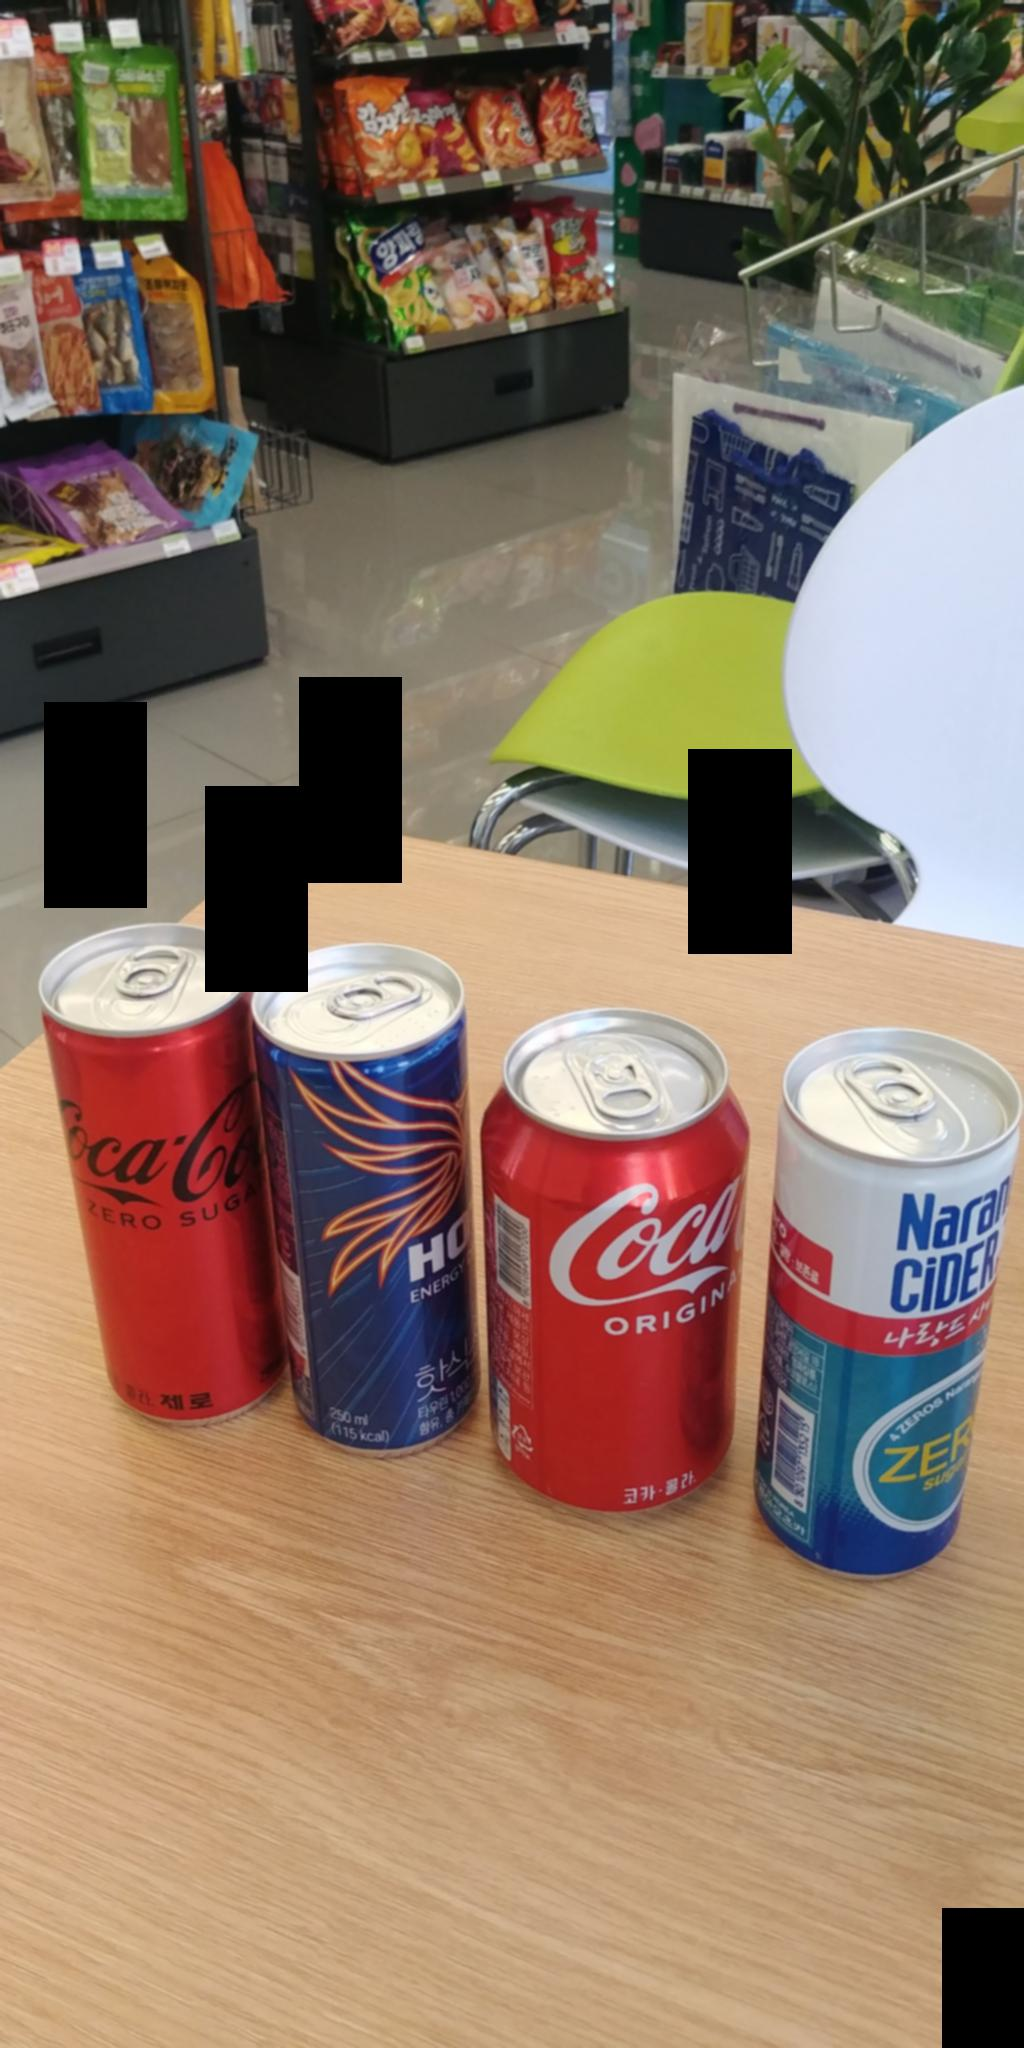cocacola: (479, 1010, 741, 1522)
hotsix_org: (287, 960, 455, 1451)
narangdcider: (789, 1028, 1008, 1578)
